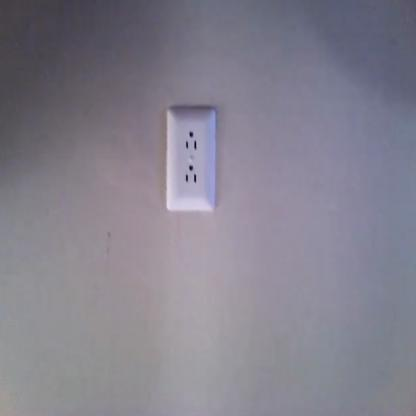OUTLET: (165, 107, 217, 212)
